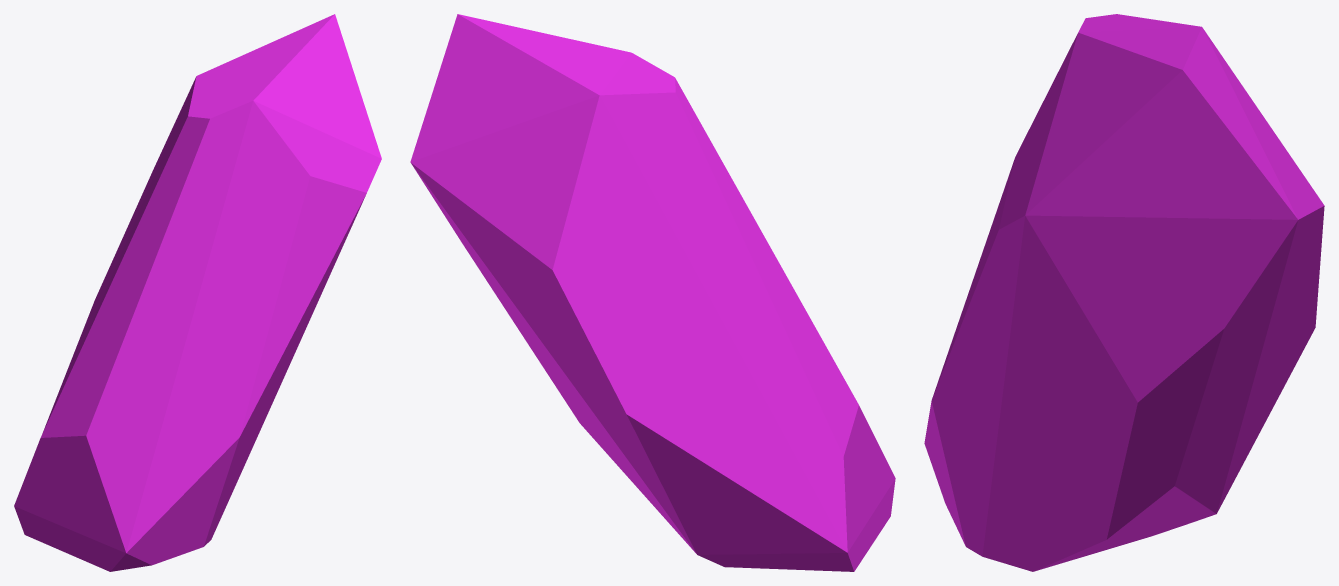
Rendered from Boss Crystal9.fbx.
3 views of the same model, side by side, from view 1: azimuth 30°, elevation 25°; view 2: azimuth 150°, elevation 25°; view 3: azimuth 270°, elevation 25° (orthographic). The views are drawn at different scales.
Parts seen in each view (by area): view 1: boss crystal.009; view 2: boss crystal.009; view 3: boss crystal.009.
Part boxes in pixels (x1,y1,x2,y2): boss crystal.009: (14,14,381,571); boss crystal.009: (410,14,895,571); boss crystal.009: (924,14,1324,571).
Bounding box in the file's own units: 1.04 × 1.27 × 0.7406.
